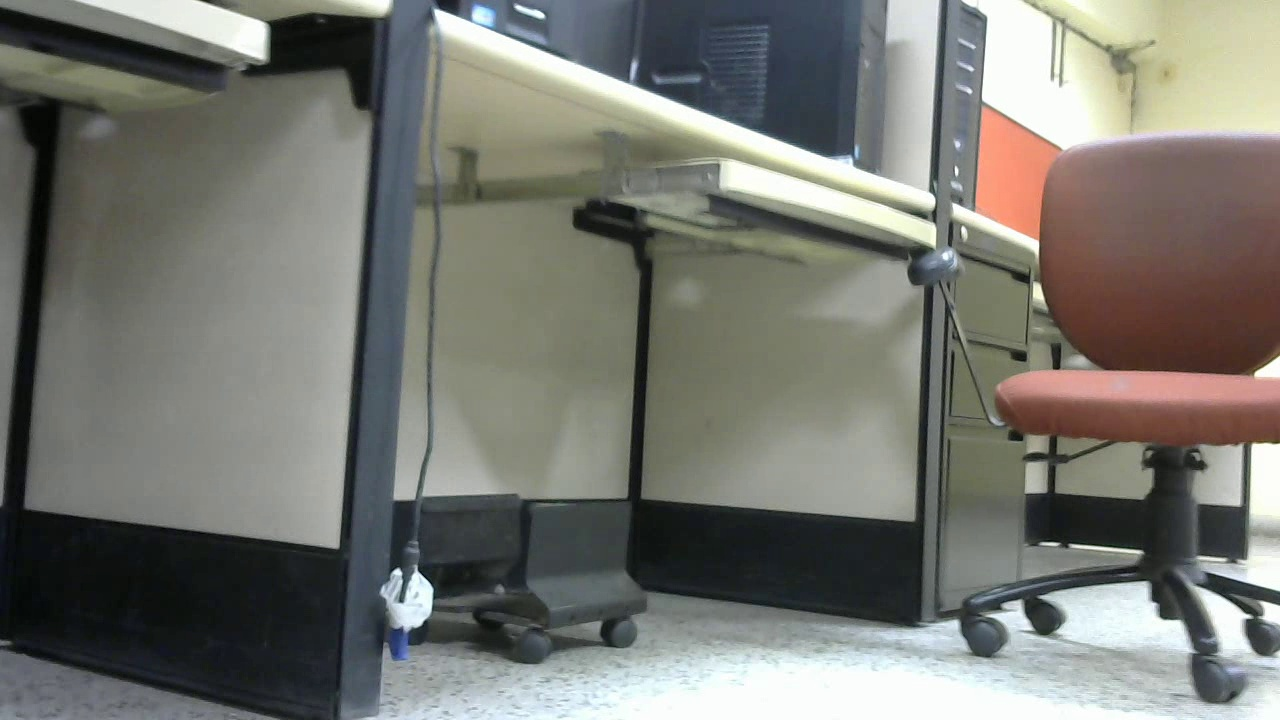chair: (714, 2, 1280, 720), (106, 213, 369, 531)
